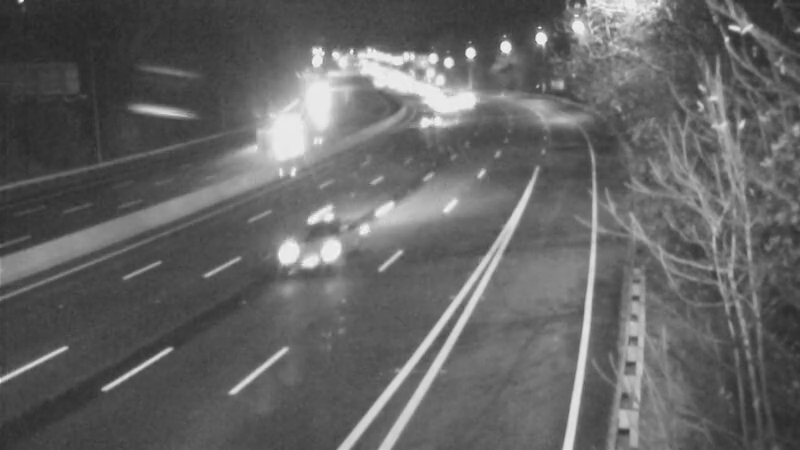vehicle: (274, 209, 354, 289), (440, 74, 490, 124), (417, 83, 467, 133), (406, 98, 456, 148), (264, 111, 314, 161)
